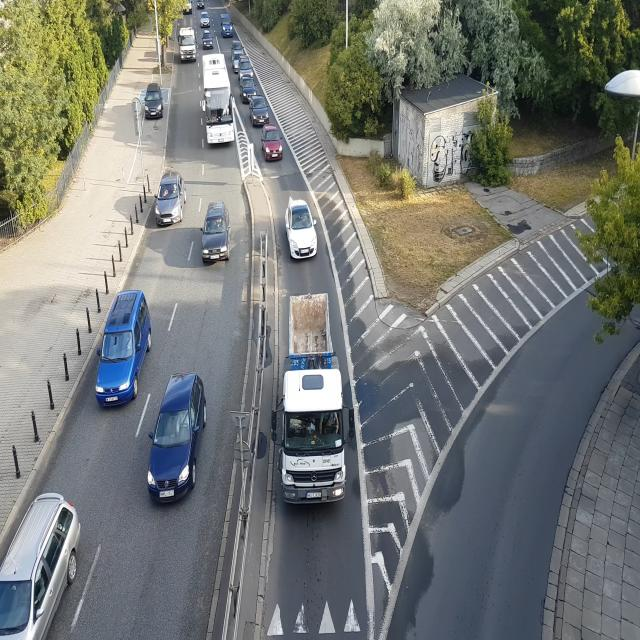bus: (202, 54, 237, 158)
car: (1, 492, 83, 637), (148, 374, 209, 508), (94, 291, 150, 408), (286, 197, 319, 262), (202, 204, 232, 265), (154, 170, 186, 226), (262, 124, 285, 163), (144, 89, 166, 118), (250, 95, 272, 124), (239, 76, 257, 100), (238, 58, 254, 78), (200, 30, 216, 49), (198, 13, 211, 28), (233, 53, 243, 72), (232, 40, 245, 54), (182, 0, 193, 15), (222, 24, 234, 37), (197, 0, 206, 11)
truck: (280, 296, 350, 504), (180, 23, 196, 64)
